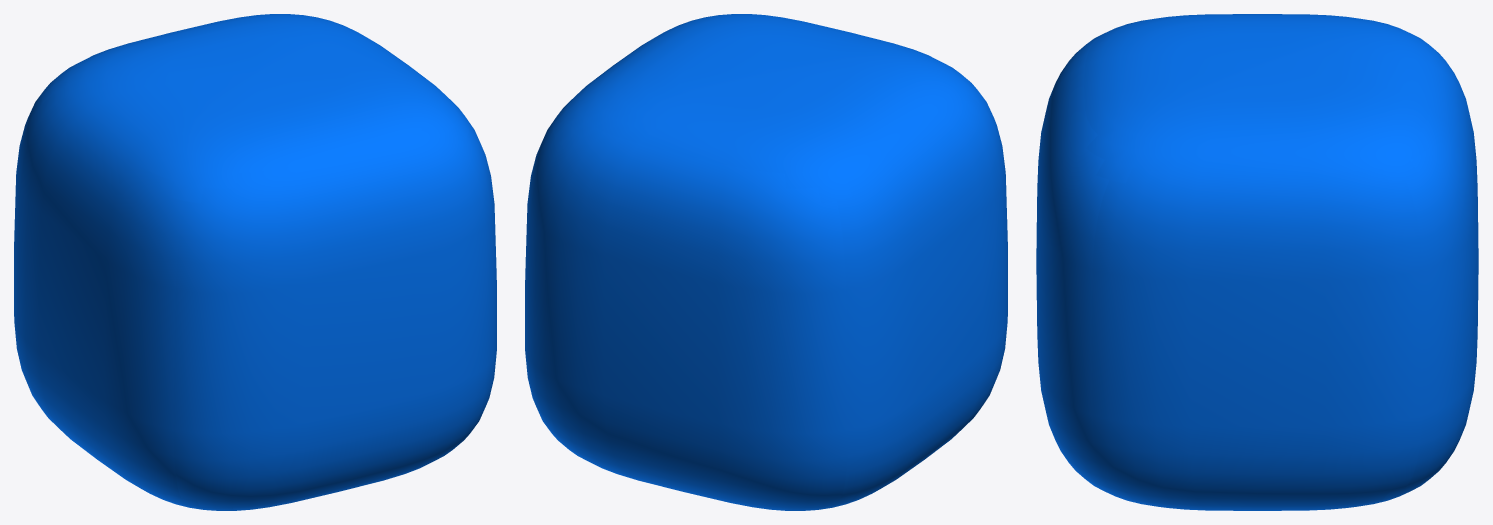
Rendered from slime_blue.glb.
The picture shows the model from 3 angles, left to right: view 1: azimuth 30°, elevation 25°; view 2: azimuth 150°, elevation 25°; view 3: azimuth 270°, elevation 25°; orthographic projection. The views are drawn at different scales.
Visible parts, largest first — view 1: PlainCube_Blue; view 2: PlainCube_Blue; view 3: PlainCube_Blue.
Boxes of the visible parts, bbox=[...] form: PlainCube_Blue: bbox=[14, 14, 496, 510]; PlainCube_Blue: bbox=[525, 14, 1007, 510]; PlainCube_Blue: bbox=[1036, 14, 1478, 510].
Bounding box in the file's own units: 0.92 × 0.8968 × 0.92.
